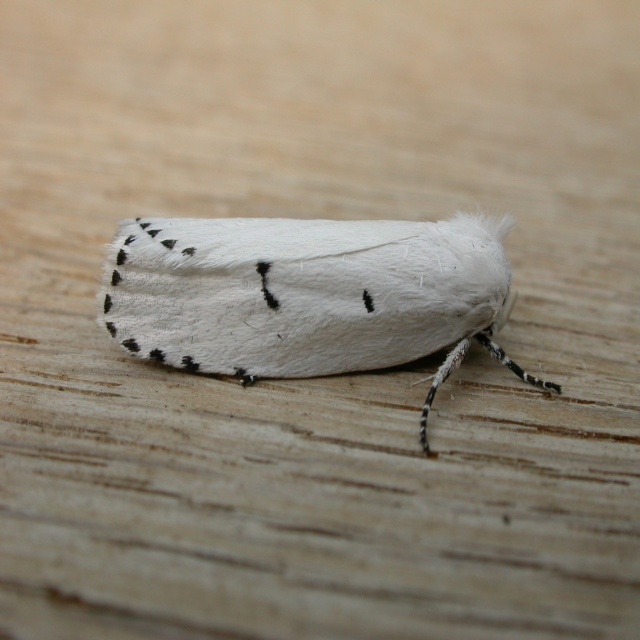Moths and butterflies: (98, 205, 567, 462)
